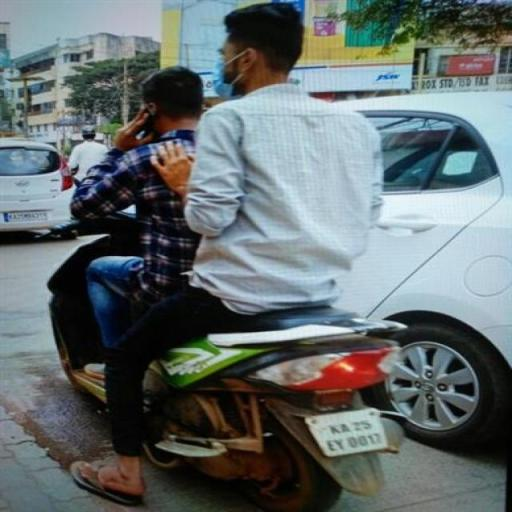using mobile: (110, 95, 167, 160)
